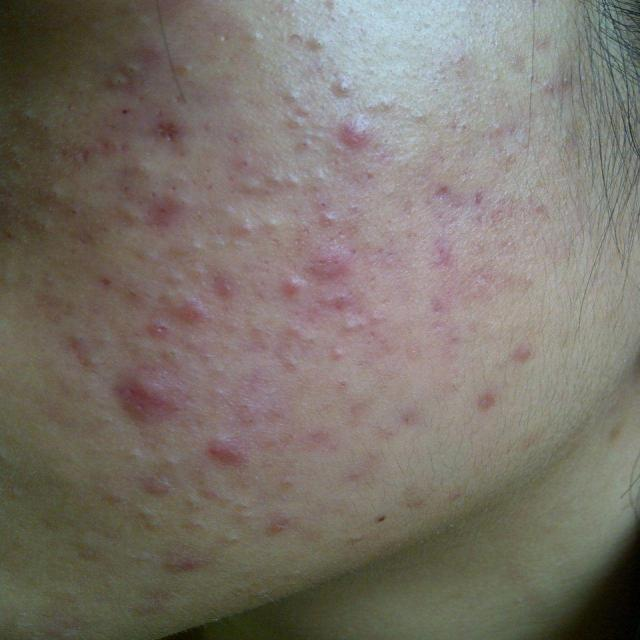Acne: (120, 154, 264, 332), (278, 238, 376, 334), (156, 492, 252, 580), (262, 152, 369, 230), (110, 344, 204, 428), (112, 64, 186, 160), (10, 173, 94, 245), (247, 390, 345, 440), (182, 433, 262, 483), (429, 168, 505, 214), (268, 88, 317, 144), (412, 302, 467, 351), (418, 235, 466, 291), (326, 109, 386, 150), (125, 452, 174, 502), (584, 401, 632, 449), (253, 504, 302, 546), (45, 326, 96, 366), (504, 330, 546, 378), (459, 377, 496, 425), (318, 67, 376, 96), (272, 27, 326, 55), (344, 500, 396, 527), (46, 607, 90, 637), (254, 344, 306, 368), (15, 102, 55, 132), (314, 344, 363, 368), (338, 461, 366, 492), (523, 28, 559, 52), (390, 403, 420, 431), (548, 73, 576, 102)
